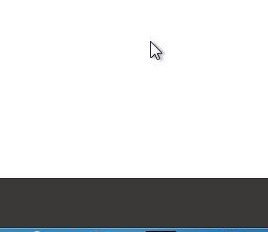cursor: (149, 40, 163, 61)
